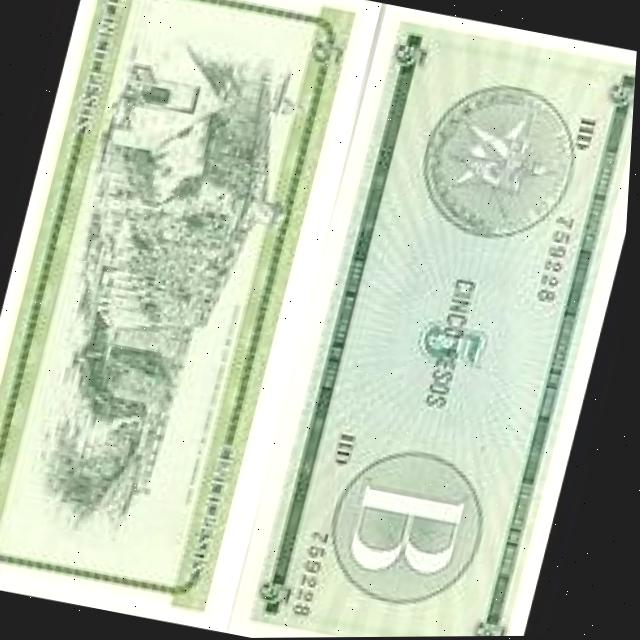banknote: (241, 4, 640, 638), (0, 0, 370, 623)
